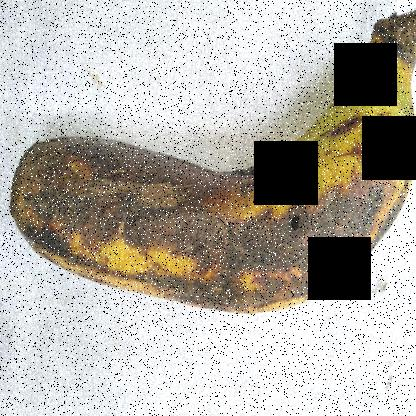rotten: (1, 106, 415, 318)
